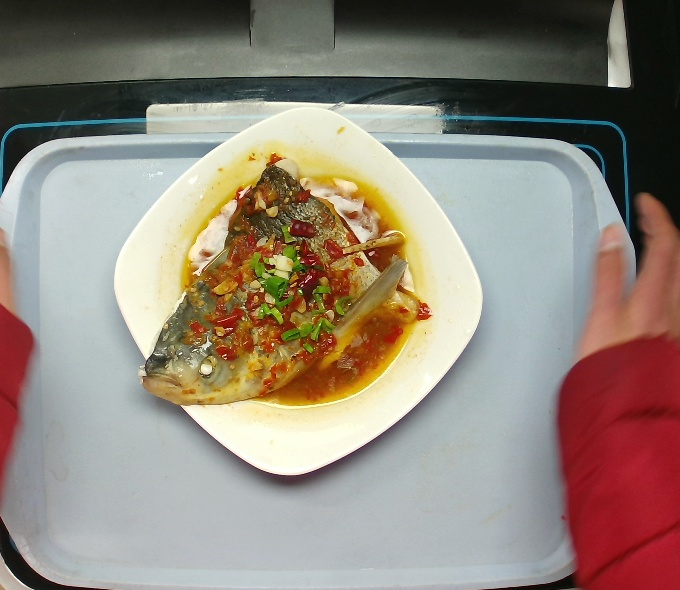wcq-DuoJiaoYuTou: (132, 138, 451, 416)
